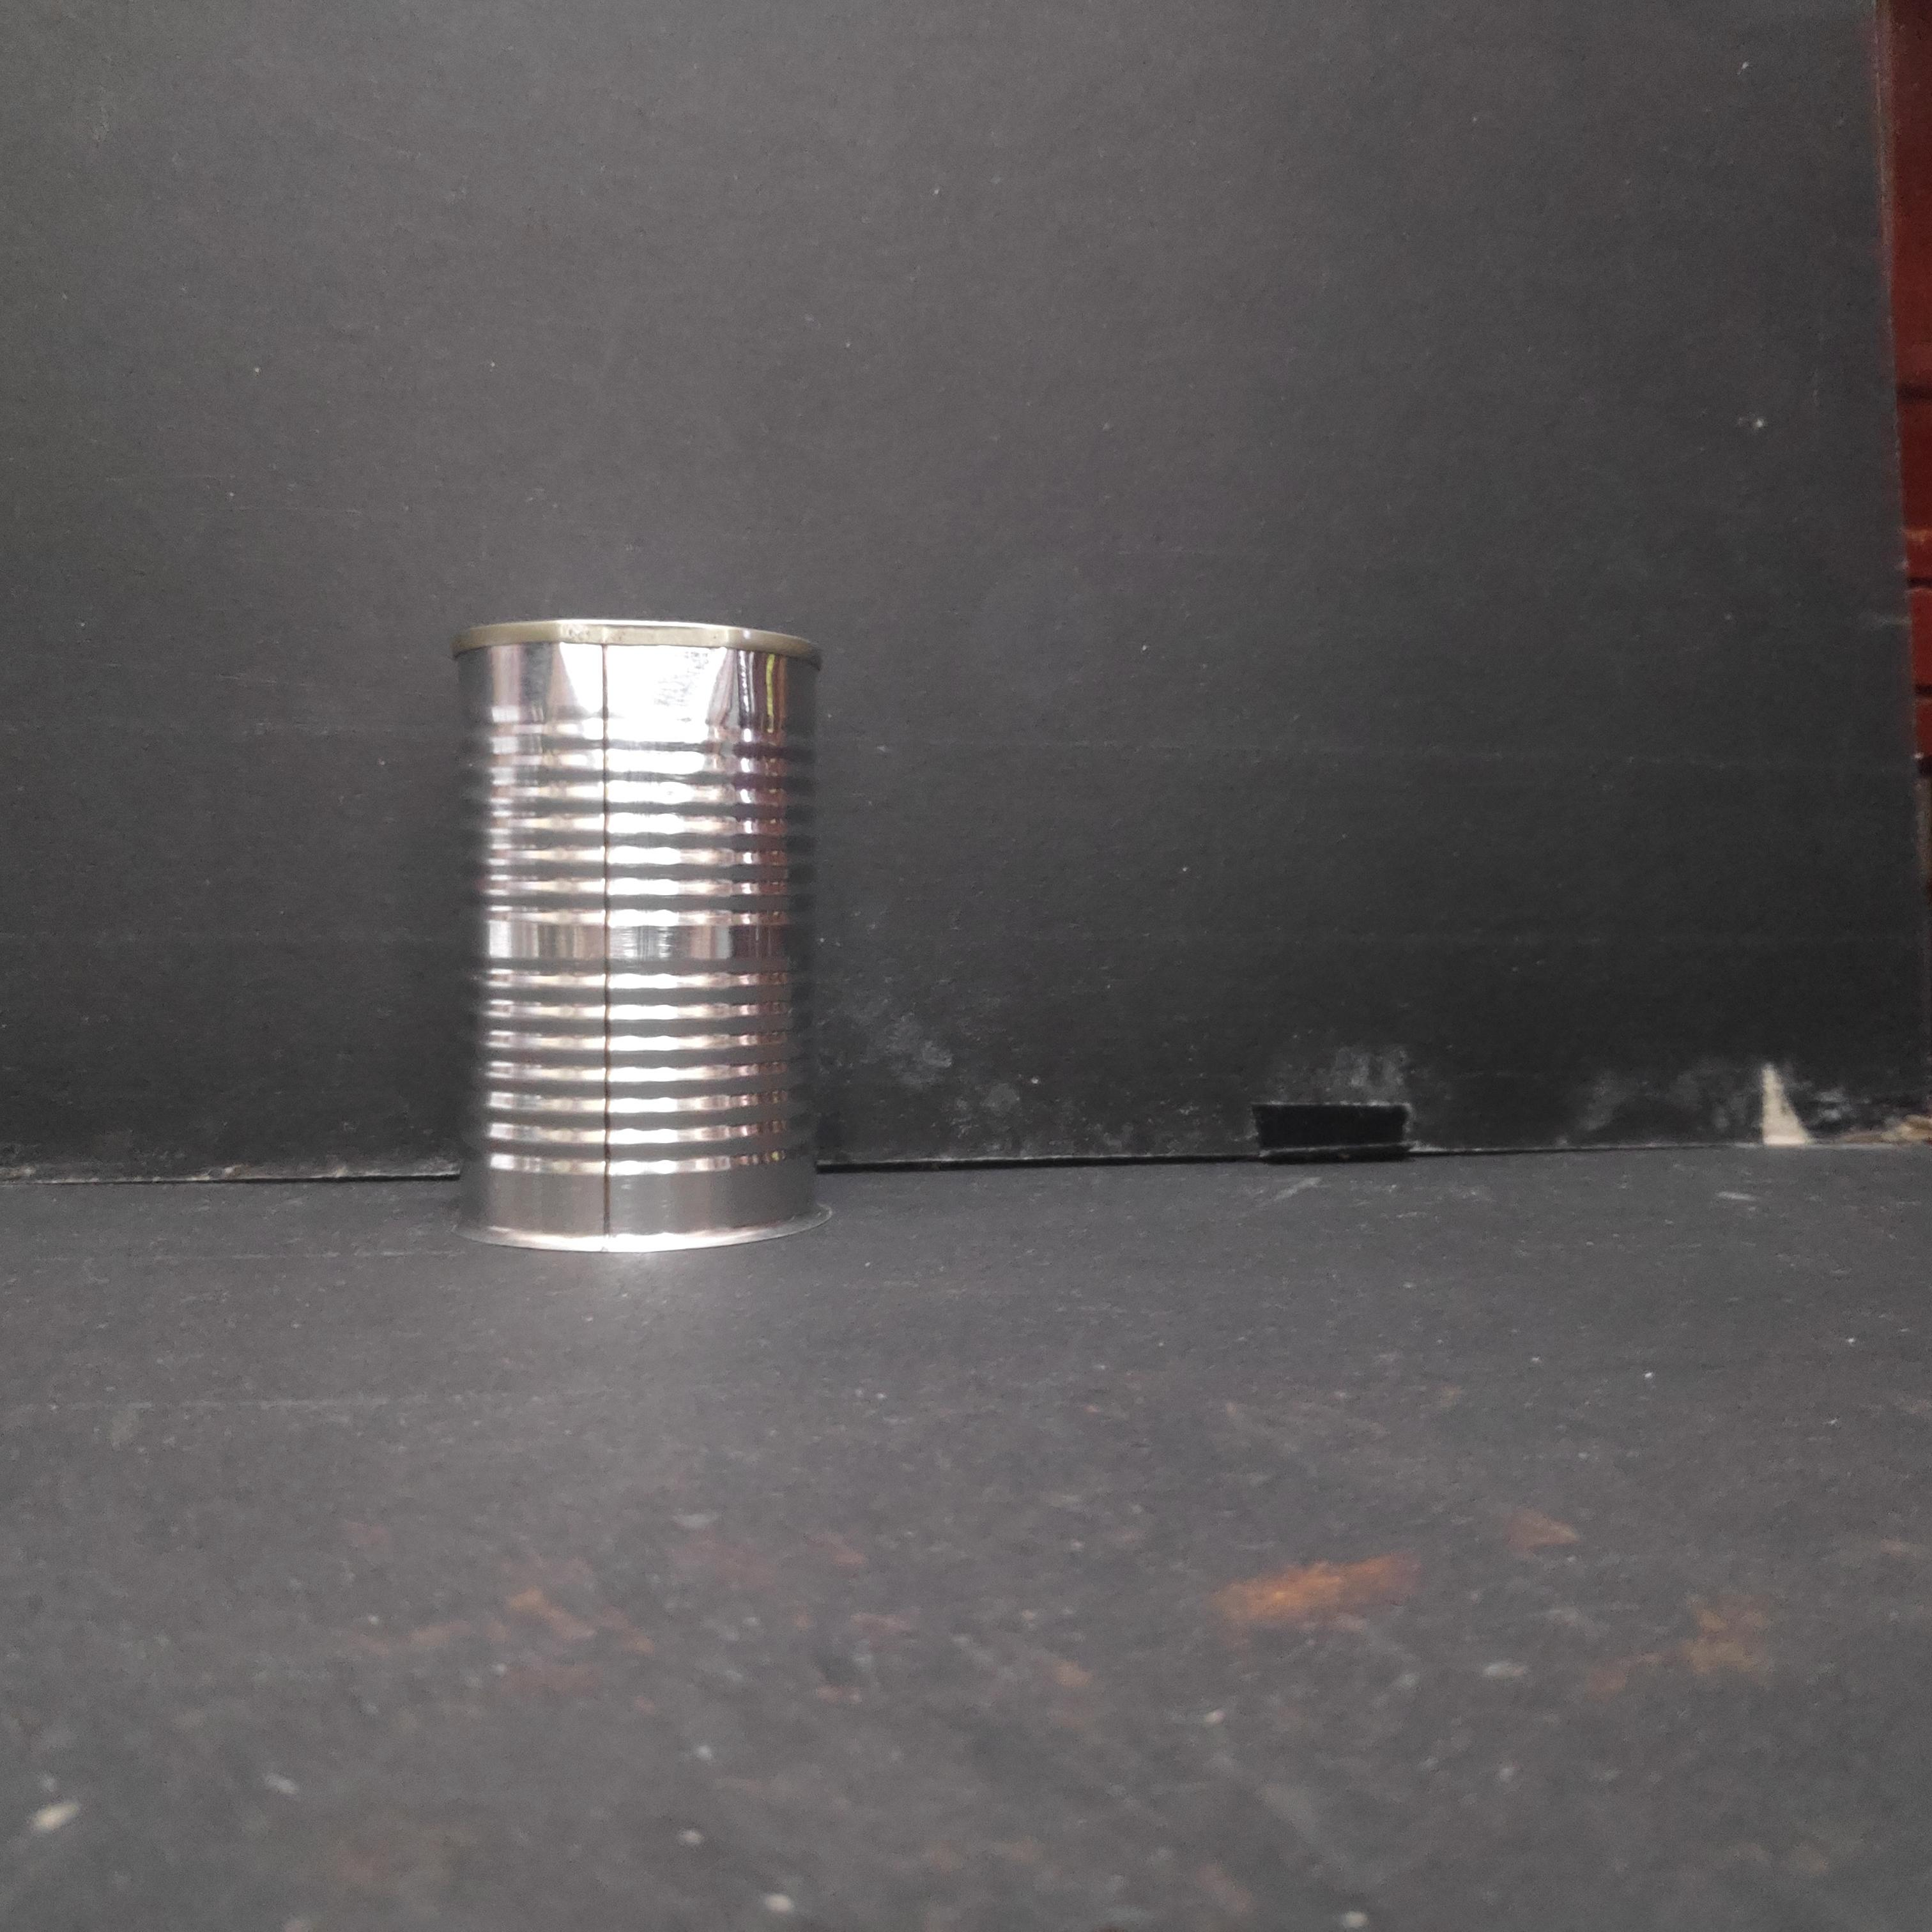Minor Defect: (439, 610, 824, 1260)
